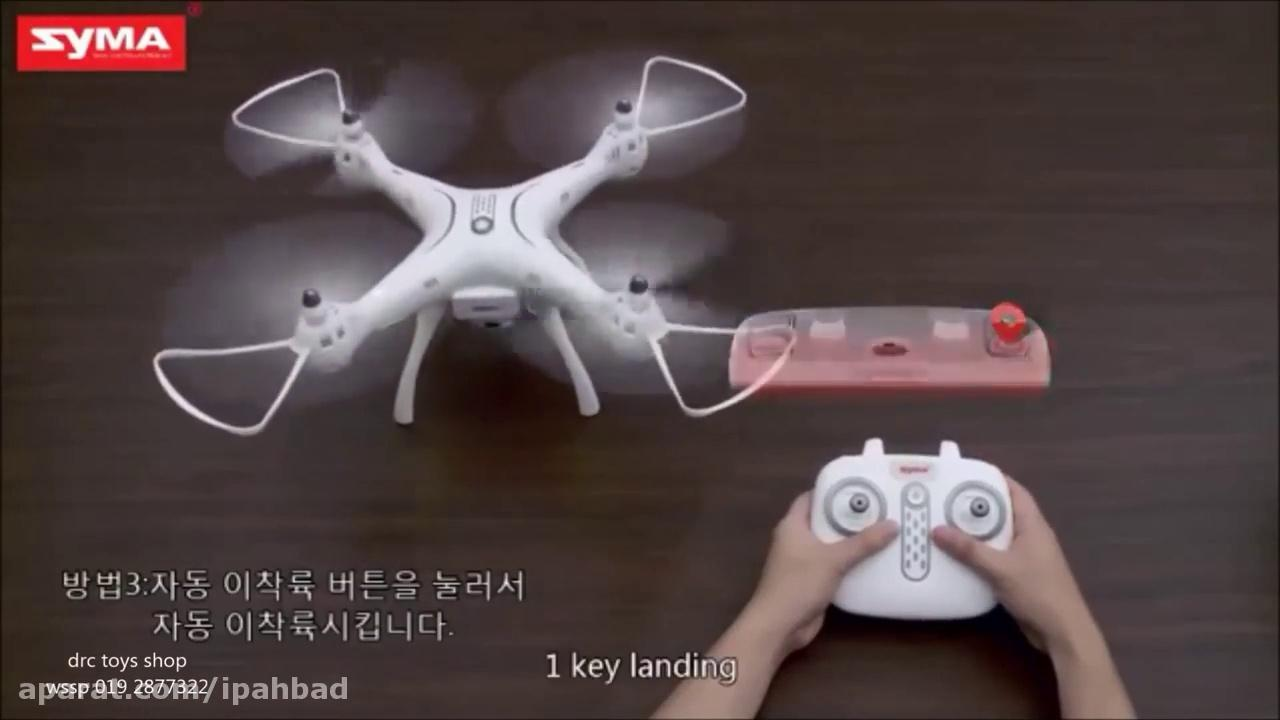drone: (148, 39, 795, 440)
